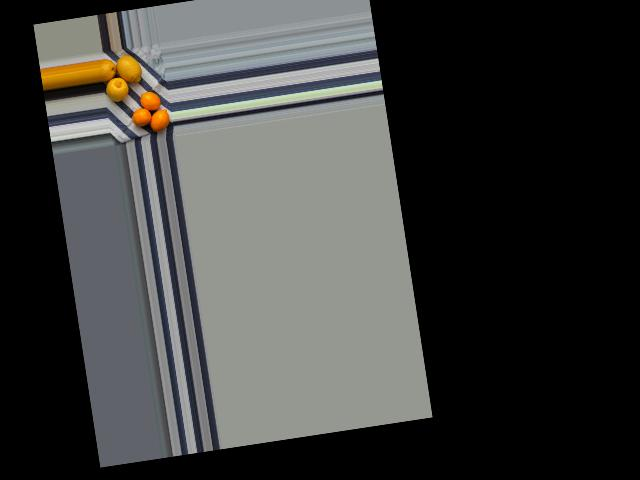lemon: (148, 108, 171, 132)
